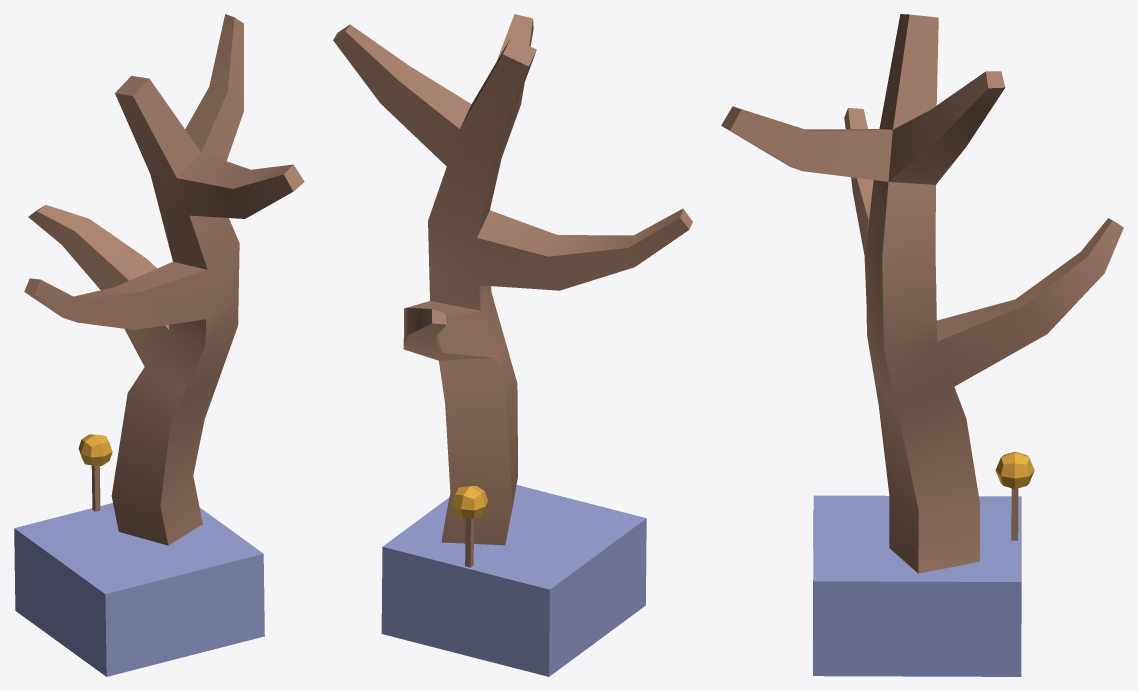
File: treeLarge.fbx
3 renders of one model, left to right at view 1: azimuth 30°, elevation 25°; view 2: azimuth 150°, elevation 25°; view 3: azimuth 270°, elevation 25°, orthographic. The views are drawn at different scales.
Visible parts, largest first — view 1: treeLarge2; view 2: treeLarge2; view 3: treeLarge2.
Boxes of the visible parts, x1,y1,x2,y2 form: treeLarge2: [14, 14, 304, 676]; treeLarge2: [333, 14, 692, 676]; treeLarge2: [721, 14, 1123, 676].
Bounding box in the file's own units: 349 × 671 × 387.
